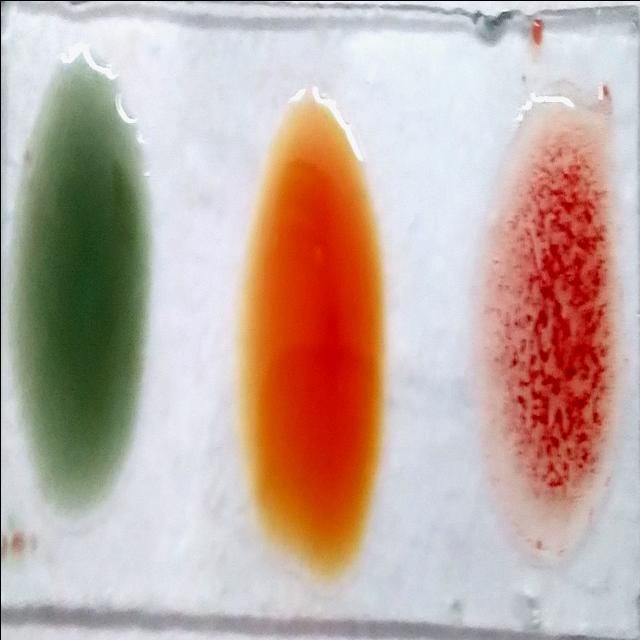D: (492, 116, 610, 534)
